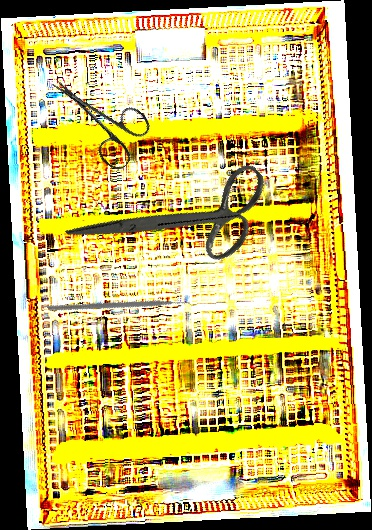Chopper: (45, 237, 198, 382)
Iris Scissors: (65, 109, 288, 328), (33, 58, 158, 174)
